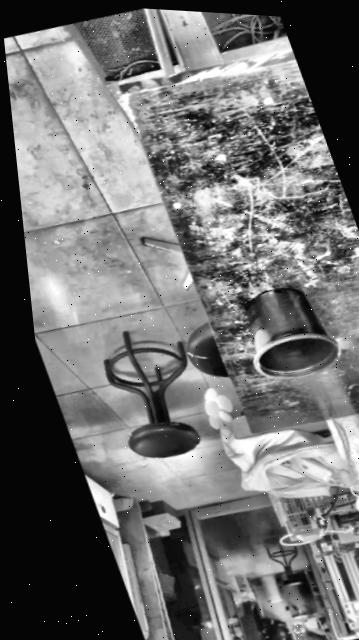pot: (229, 276, 346, 387)
